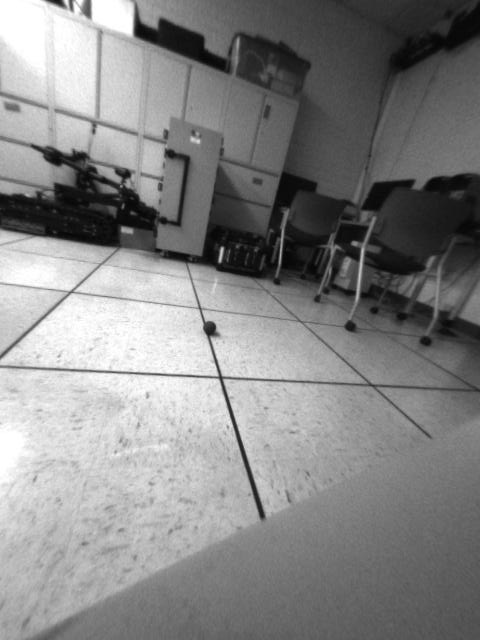dogtoy: (198, 316, 222, 338)
